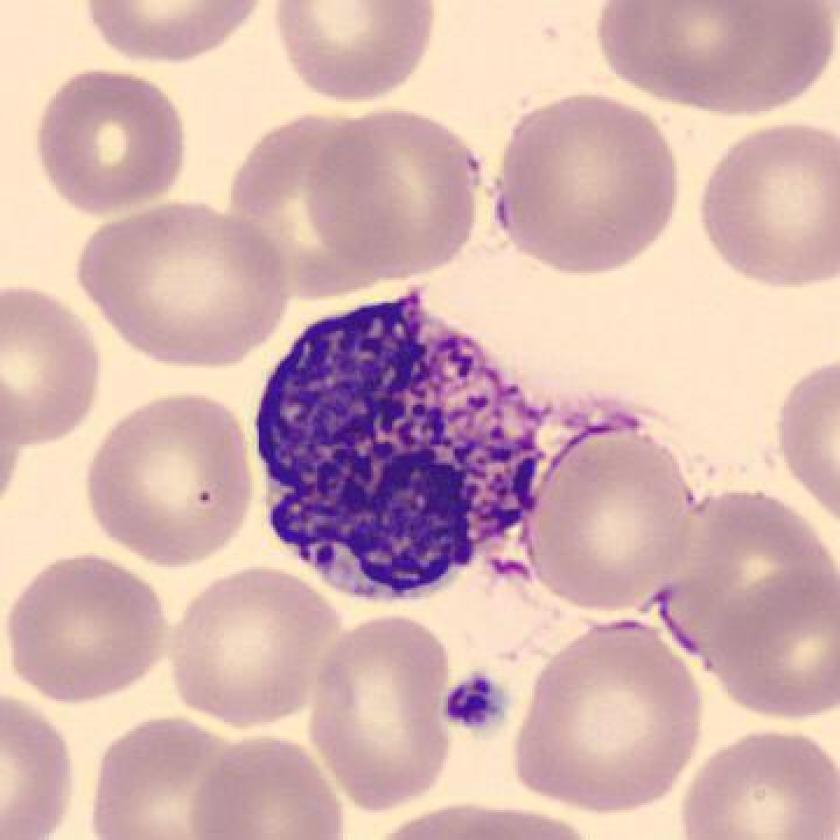basophil: (256, 291, 550, 594)
